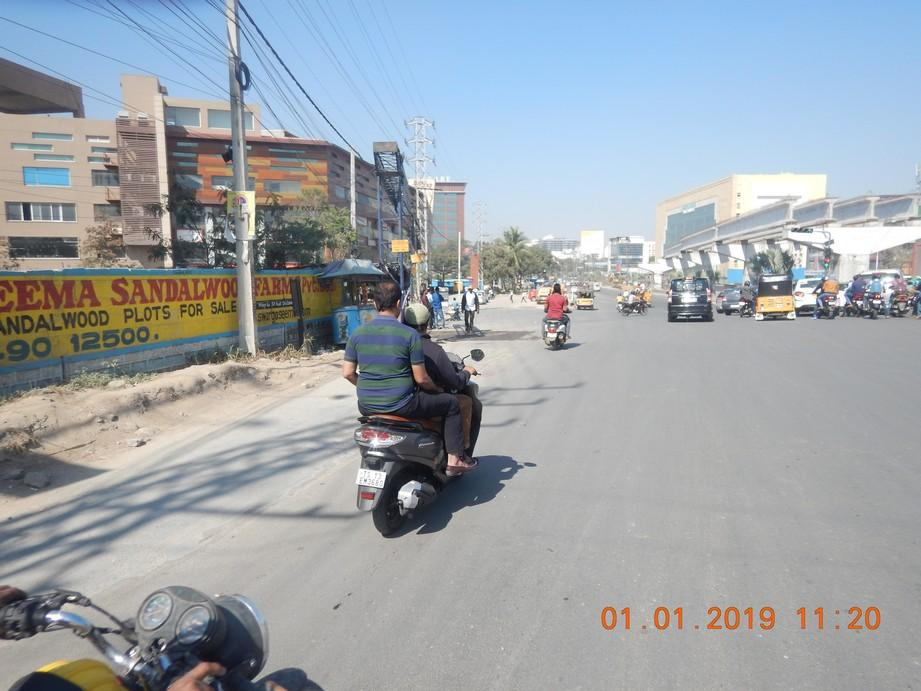plate: (356, 468, 387, 487)
